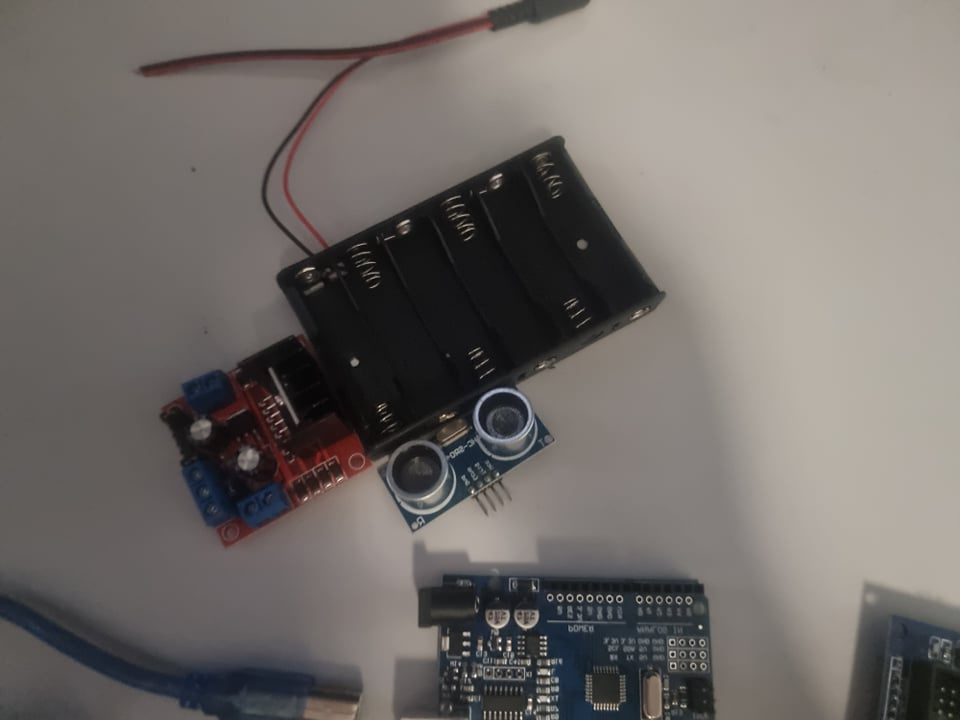BATTERY BOX: (276, 129, 668, 451)
MOTOR: (138, 338, 374, 548)
SENSOR: (384, 385, 561, 536)
UNO R3: (421, 567, 712, 720)
